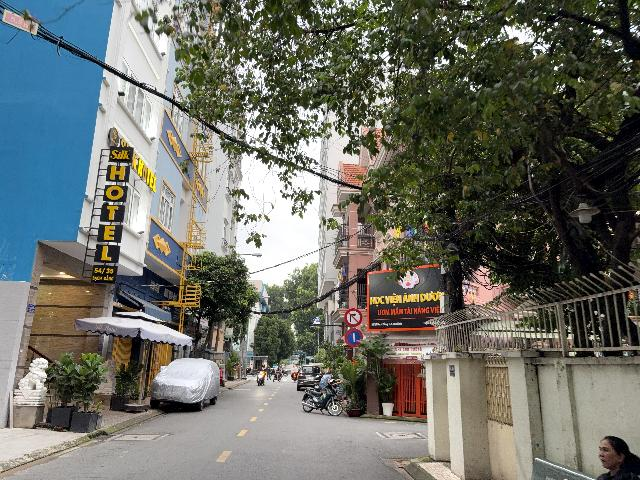cam-do-xe-ngay-le: (344, 328, 363, 348)
cam-re-phai: (344, 308, 363, 327)
